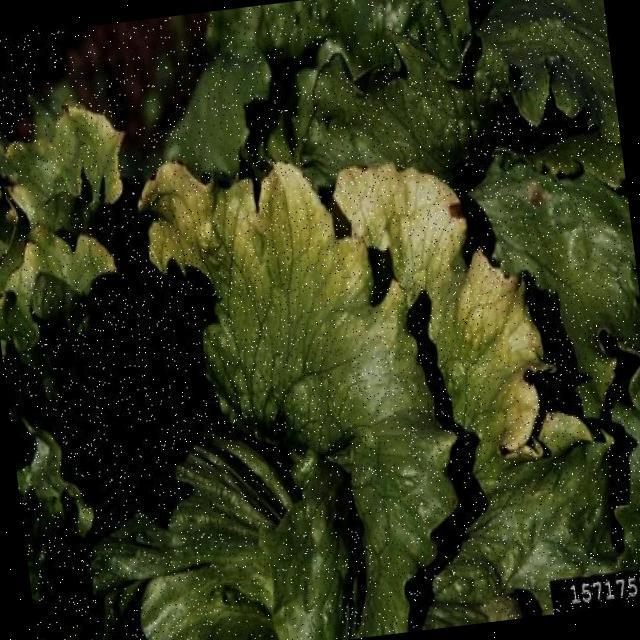Lettuce Mosaic Virus: (136, 123, 573, 624)
